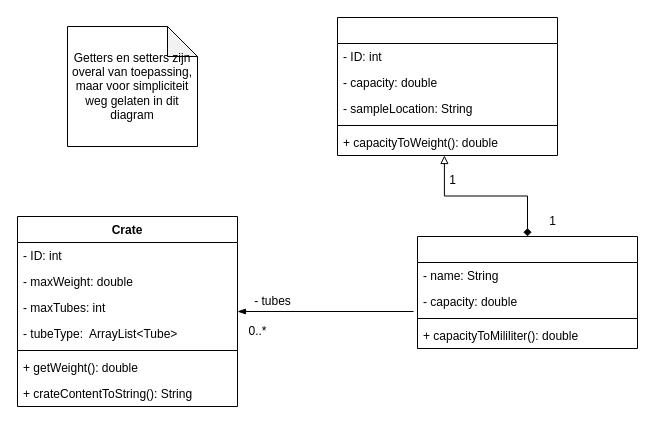
This 655x427 diagram has some shape labels left out. Here are the shapes that lost their labels. From the top down, the box of each, then its label:
(336, 16, 558, 156): Reservoir
(416, 236, 638, 348): Tube
